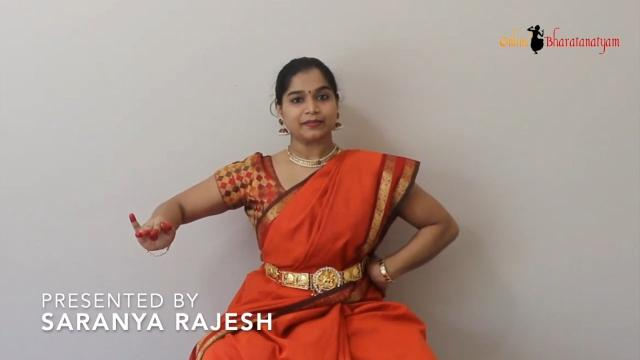Hamsapaksha: (108, 196, 190, 260)
